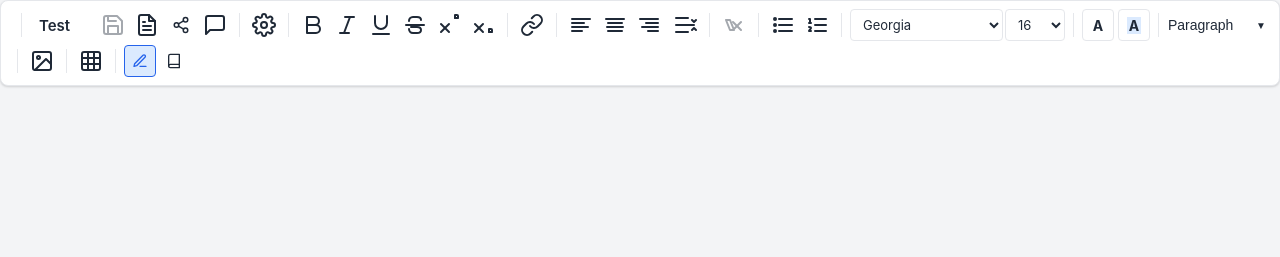
Scenario: Toolbar line spacing popup › opens popup with preset values on click
This screenshot has width=1280, height=257.
Click the button named "Line spacing" at [685, 25], box [669,9,701,41]
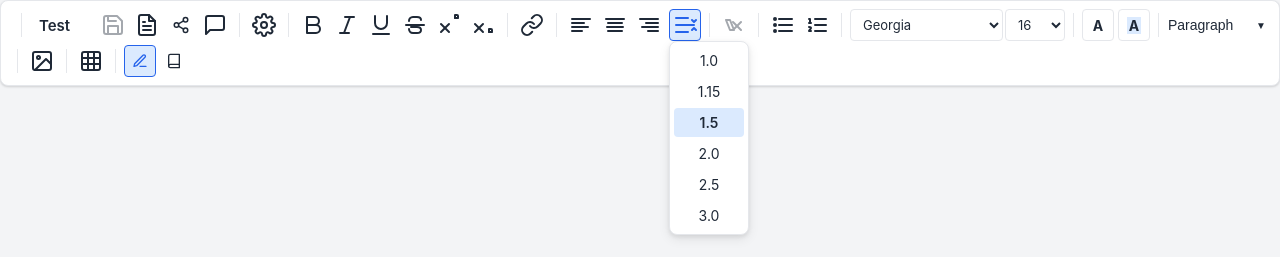
Check: the button "1.0" is shown, box [674,46,744,75]
Check: the button "1.15" is shown, box [674,77,744,106]
Check: the button "1.5" is shown, box [674,108,744,137]
